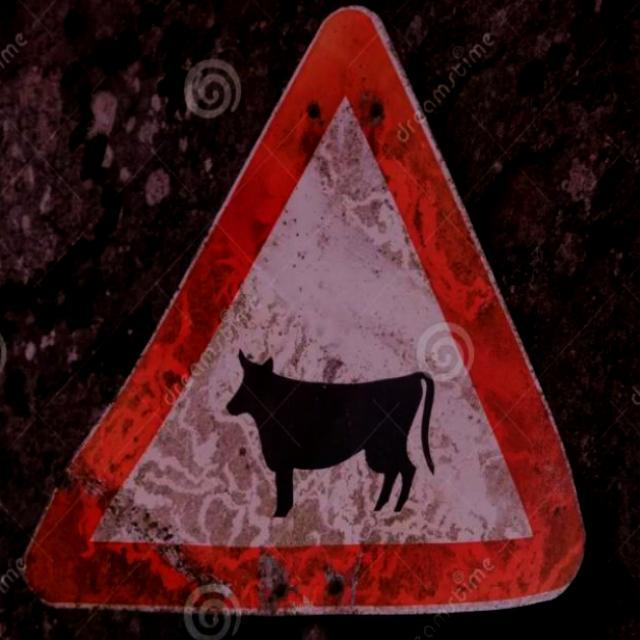damaged_missing_road_sign: (33, 3, 599, 614)
